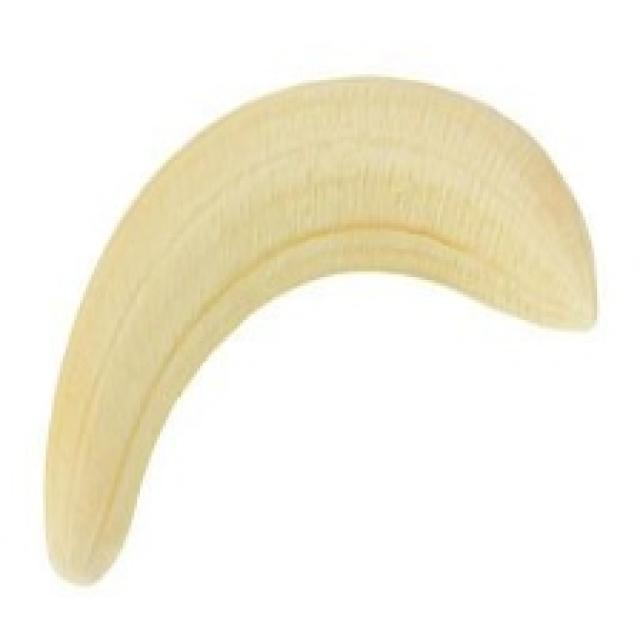Banana: (40, 71, 597, 586)
